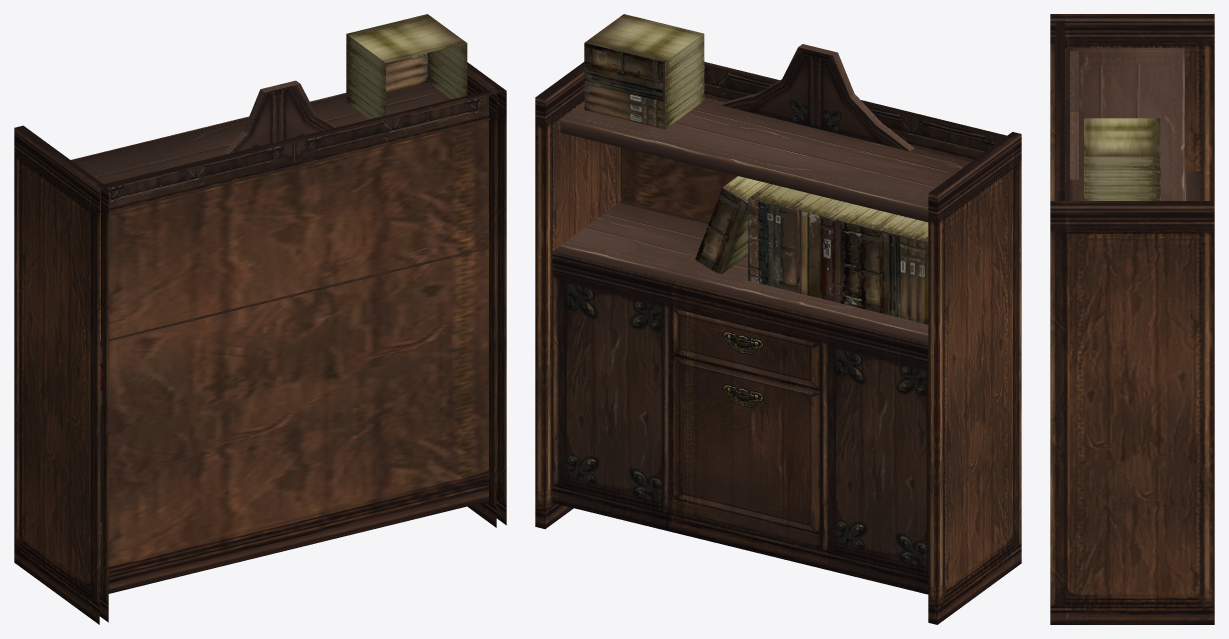
File: furniture_k02.FBX
3 renders of one model, left to right at view 1: azimuth 30°, elevation 25°; view 2: azimuth 150°, elevation 25°; view 3: azimuth 270°, elevation 25°, orthographic. The views are drawn at different scales.
Visible parts, largest first — view 1: furniture_k02; view 2: furniture_k02; view 3: furniture_k02.
Boxes of the visible parts, x1,y1,x2,y2 form: furniture_k02: (14,14,506,624); furniture_k02: (535,14,1021,624); furniture_k02: (1050,14,1214,624).
Bounding box in the file's own units: 2.04 × 2.3 × 0.7385.
